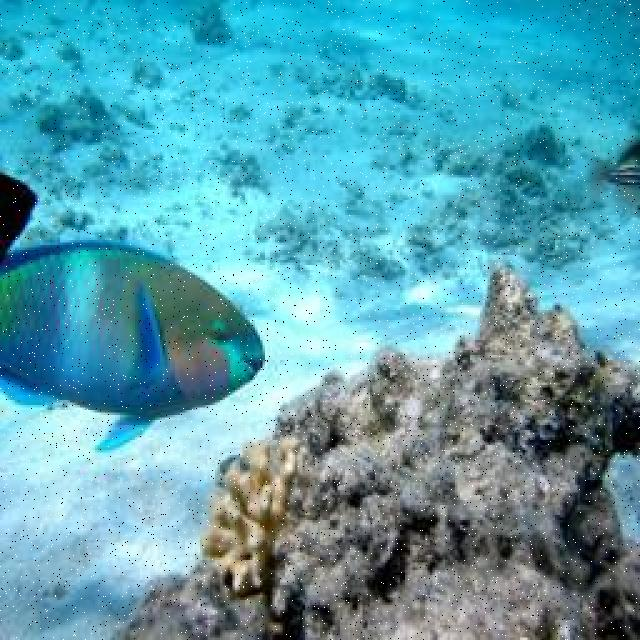fish: (0, 237, 265, 450)
reefs: (200, 437, 312, 596)
sea-floor: (115, 262, 638, 638)
